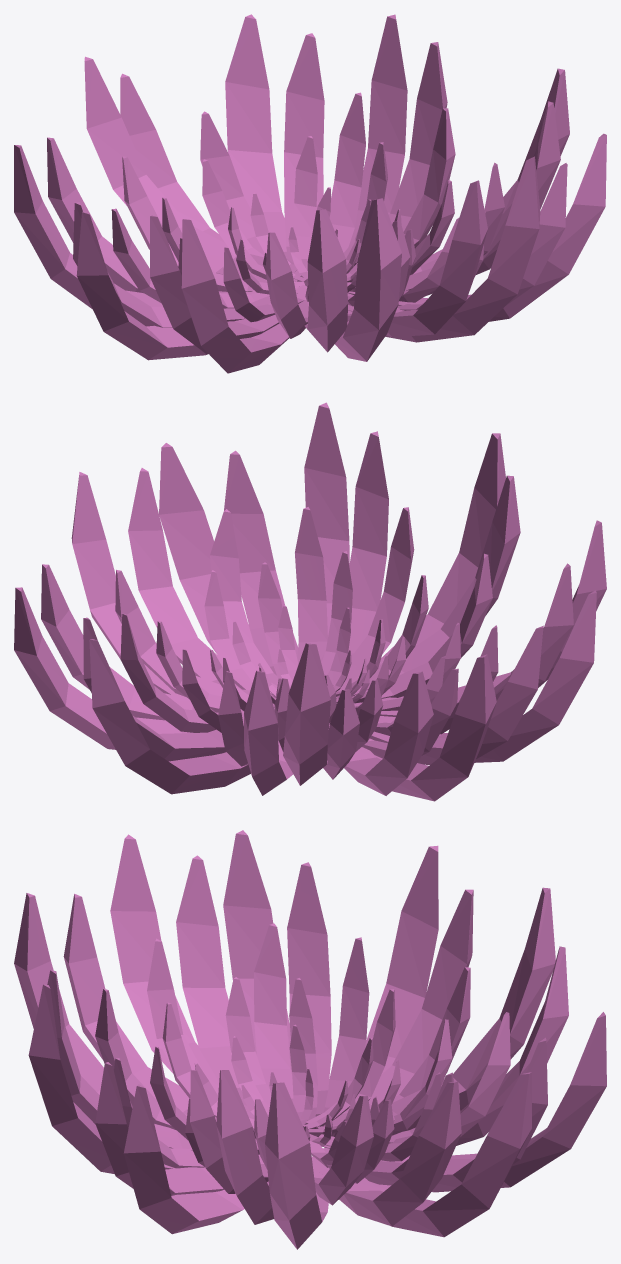
Rendered from coral.fbx.
The picture shows the model from 3 angles, top to bottom: view 1: azimuth 30°, elevation 25°; view 2: azimuth 150°, elevation 25°; view 3: azimuth 270°, elevation 25°; orthographic projection. The views are drawn at different scales.
Parts seen in each view (by area): view 1: coral_1; view 2: coral_1; view 3: coral_1.
Boxes of the visible parts, x1=… form: coral_1: x1=14, y1=14, x2=606, y2=373; coral_1: x1=14, y1=402, x2=606, y2=801; coral_1: x1=14, y1=830, x2=606, y2=1249.
Size of what is drawn, in the model's own units: 67.5 by 30.07 by 63.08.
